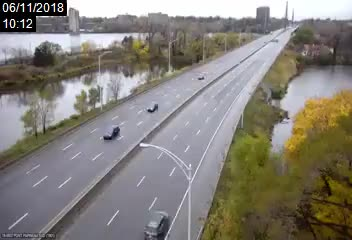personal_car: (142, 210, 172, 240), (102, 124, 122, 141), (144, 103, 158, 112), (197, 75, 203, 82)
